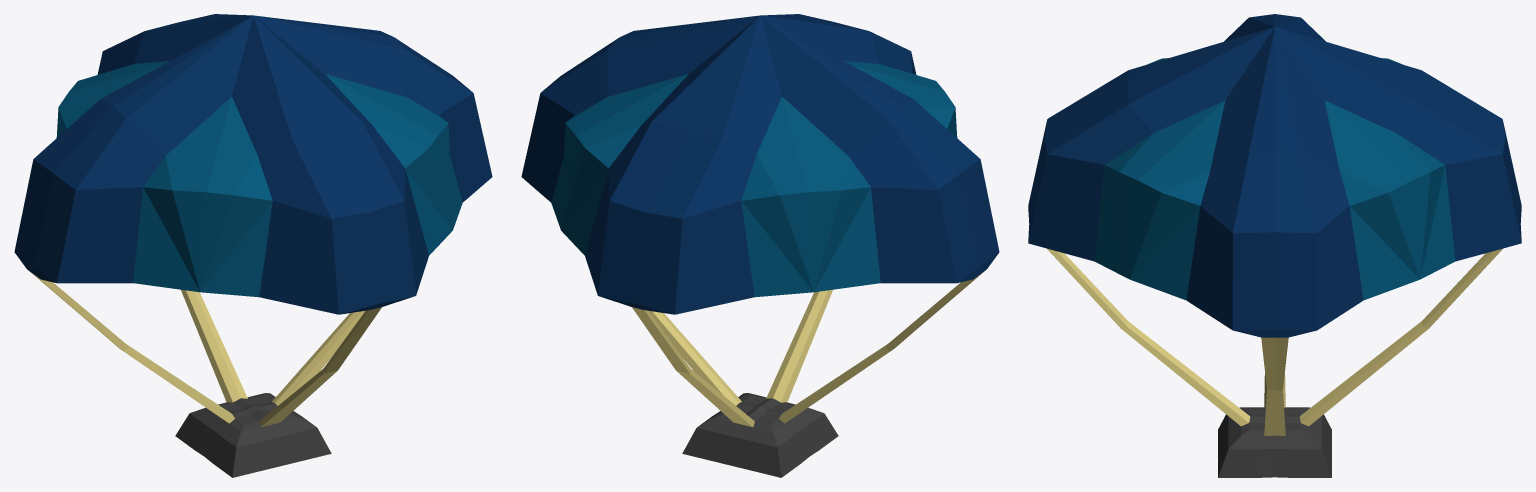
File: Parachute.fbx
3 renders of one model, left to right at view 1: azimuth 30°, elevation 25°; view 2: azimuth 150°, elevation 25°; view 3: azimuth 270°, elevation 25°, orthographic.
Visible parts, largest first — view 1: Cube; view 2: Cube; view 3: Cube.
Boxes of the visible parts, box(x1,y1,x2,y2) form: Cube: box(14, 14, 492, 477); Cube: box(521, 14, 999, 477); Cube: box(1028, 14, 1521, 477).
Bounding box in the file's own units: 545 × 509 × 533.
